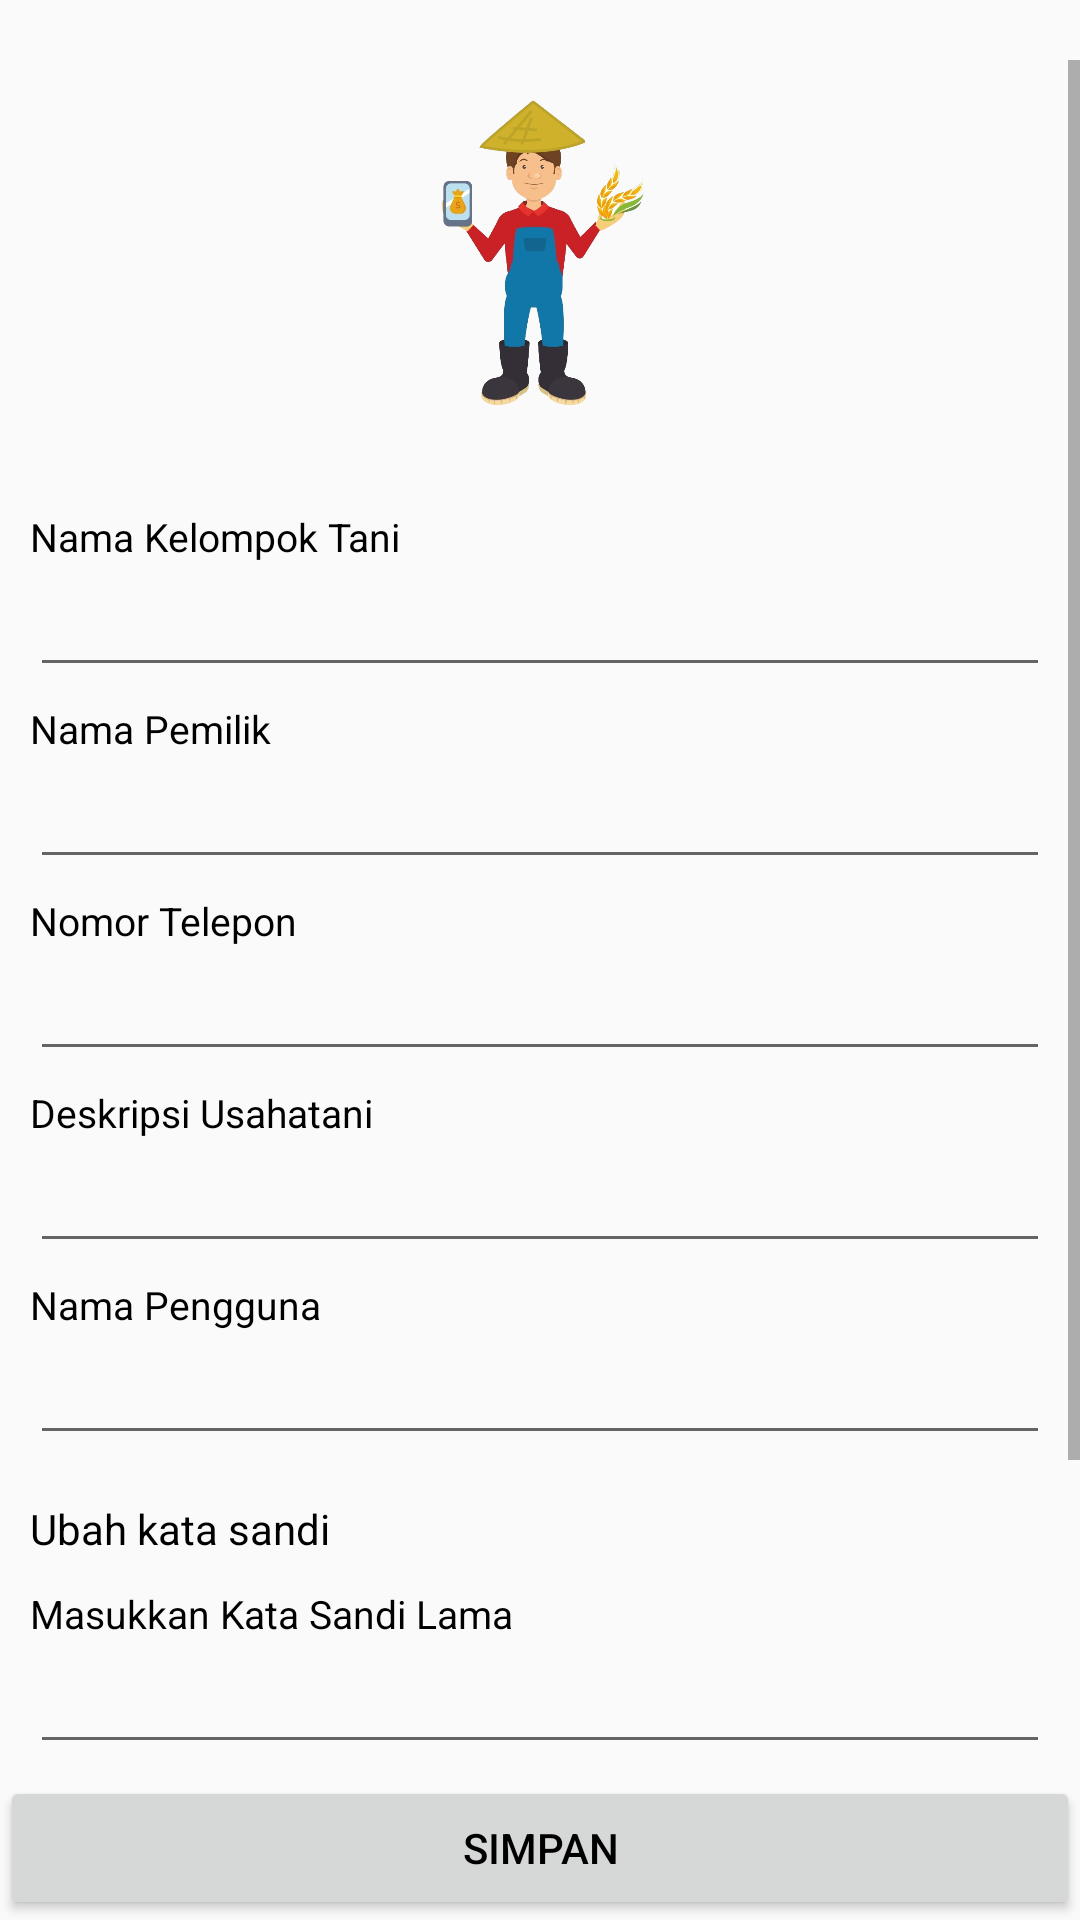

Where icons sit on this 1080 × 1920 app screen, as [x1, y1, x2, y2]:
petani: [442, 101, 643, 405]
